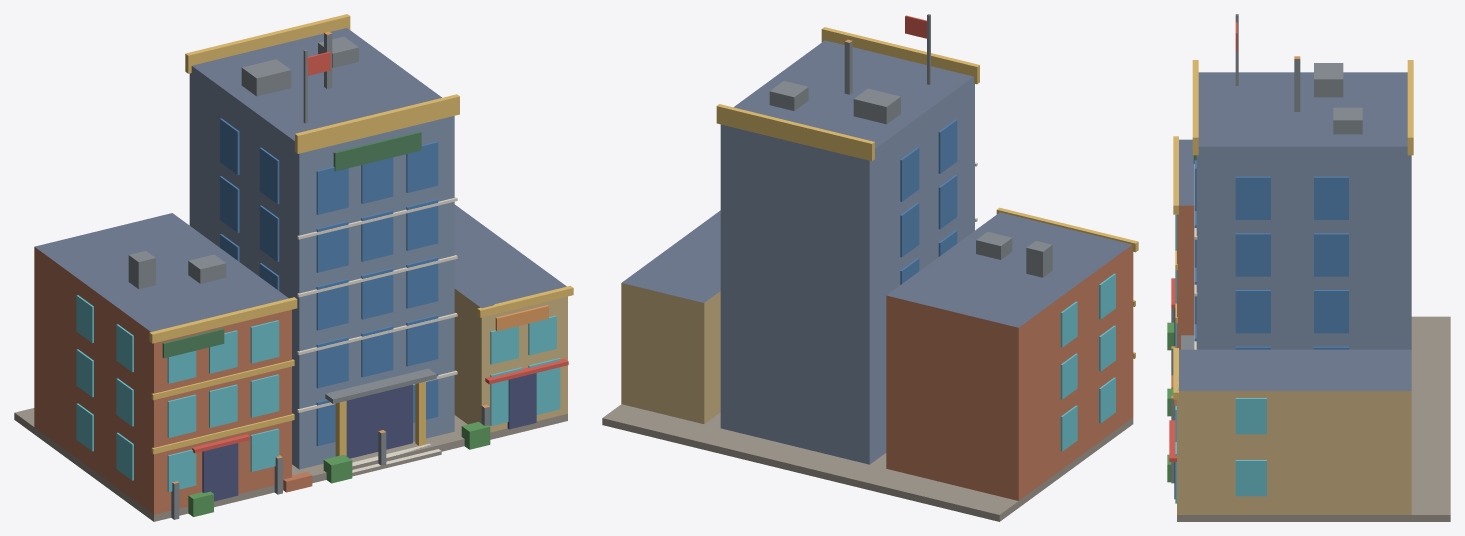
Rendered from BusinessDistrict.fbx.
3 views of the same model, side by side, from view 1: azimuth 30°, elevation 25°; view 2: azimuth 150°, elevation 25°; view 3: azimuth 270°, elevation 25° (orthographic). The views are drawn at different scales.
Visible parts, largest first — view 1: BusinessDistrict; view 2: BusinessDistrict; view 3: BusinessDistrict.
Boxes of the visible parts, box(x1,y1,x2,y2) form: BusinessDistrict: box(14, 14, 573, 521); BusinessDistrict: box(602, 14, 1138, 521); BusinessDistrict: box(1167, 14, 1450, 521).
Size of the model in its own units: 2440 by 2240 by 1450.
